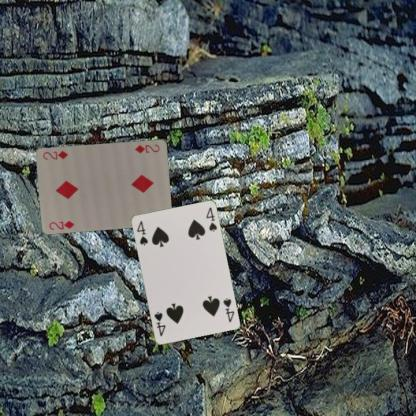2d: (132, 142, 162, 154), (46, 218, 76, 230)
4s: (220, 295, 235, 324), (134, 218, 149, 246)
